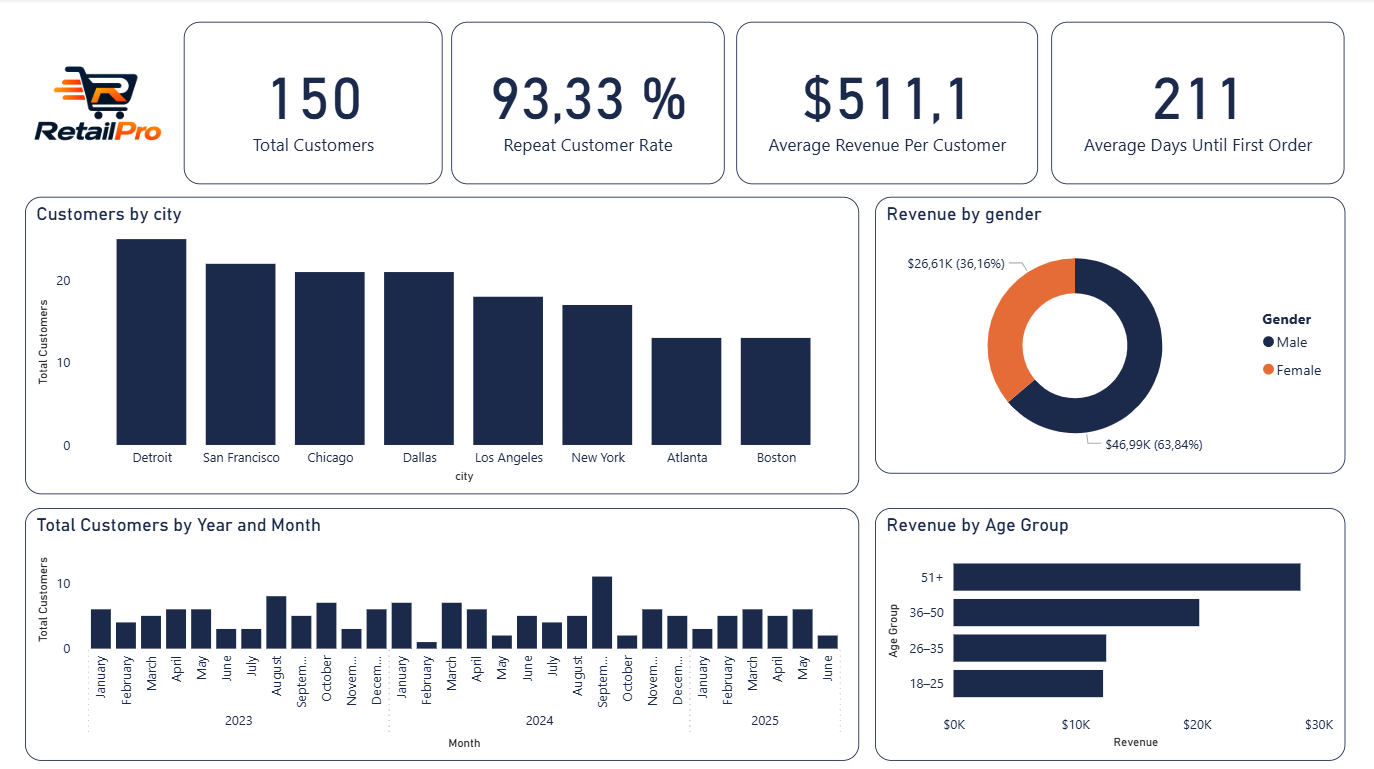

Layout of this report page (visuals, bound fields, positions):
{"tool":"powerbi","page":{"name":"Customers Overview","canvas":[1280,720],"ordinal":3},"visuals":[{"type":"card","fields":{"Values":["customers.Total Customers"]},"box":[171,22.2,241,151],"z":0},{"type":"card","fields":{"Values":["orders.Repeat Customer Rate"]},"box":[419.7,22.2,254.3,151],"z":3},{"type":"card","fields":{"Values":["orders.Revenue Per Customer"]},"box":[685.1,22.2,280.9,151],"z":4},{"type":"card","fields":{"Values":["orders.Average Days Until First Order"]},"box":[978.3,22.2,273.2,151],"z":5},{"type":"donutChart","fields":{"Y":["orders.Revenue"],"Category":["customers.gender"]},"box":[814,184.3,437.5,257.6],"z":6},{"type":"clusteredColumnChart","title":" Customers by city","fields":{"Category":["customers.city"],"Y":["customers.Total Customers"]},"box":[23.3,184.3,776.2,276.5],"z":7},{"type":"clusteredColumnChart","fields":{"Y":["customers.Total Customers"],"Category":["customers.registration_date.Variation.Date Hierarchy.Year","customers.registration_date.Variation.Date Hierarchy.Month"]},"box":[23.3,474.2,776.2,235.4],"z":8},{"type":"barChart","fields":{"Category":["customers.Age Group"],"Y":["orders.Revenue"]},"box":[814,474.2,466.4,235.4],"z":9},{"type":"image","box":[10,12,161,172],"z":10}]}

Visuals, with their boxes in screenshot pixels (x1, y1, x2, y2), scaled from the page's 1280x720 canvas onto the 1374x769 screenshot:
card - customers.Total Customers: locate(184, 24, 442, 185)
card - orders.Repeat Customer Rate: locate(451, 24, 723, 185)
card - orders.Revenue Per Customer: locate(735, 24, 1037, 185)
card - orders.Average Days Until First Order: locate(1050, 24, 1343, 185)
donutChart - orders.Revenue x customers.gender: locate(874, 197, 1343, 472)
" Customers by city" clusteredColumnChart: locate(25, 197, 858, 492)
clusteredColumnChart - customers.Total Customers x customers.registration_date.Variation.Date Hierarchy.Year: locate(25, 506, 858, 758)
barChart - customers.Age Group x orders.Revenue: locate(874, 506, 1373, 758)
image: locate(11, 13, 184, 197)
